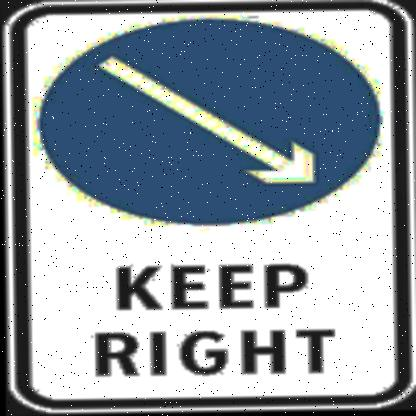Keep right: (35, 19, 386, 231)
